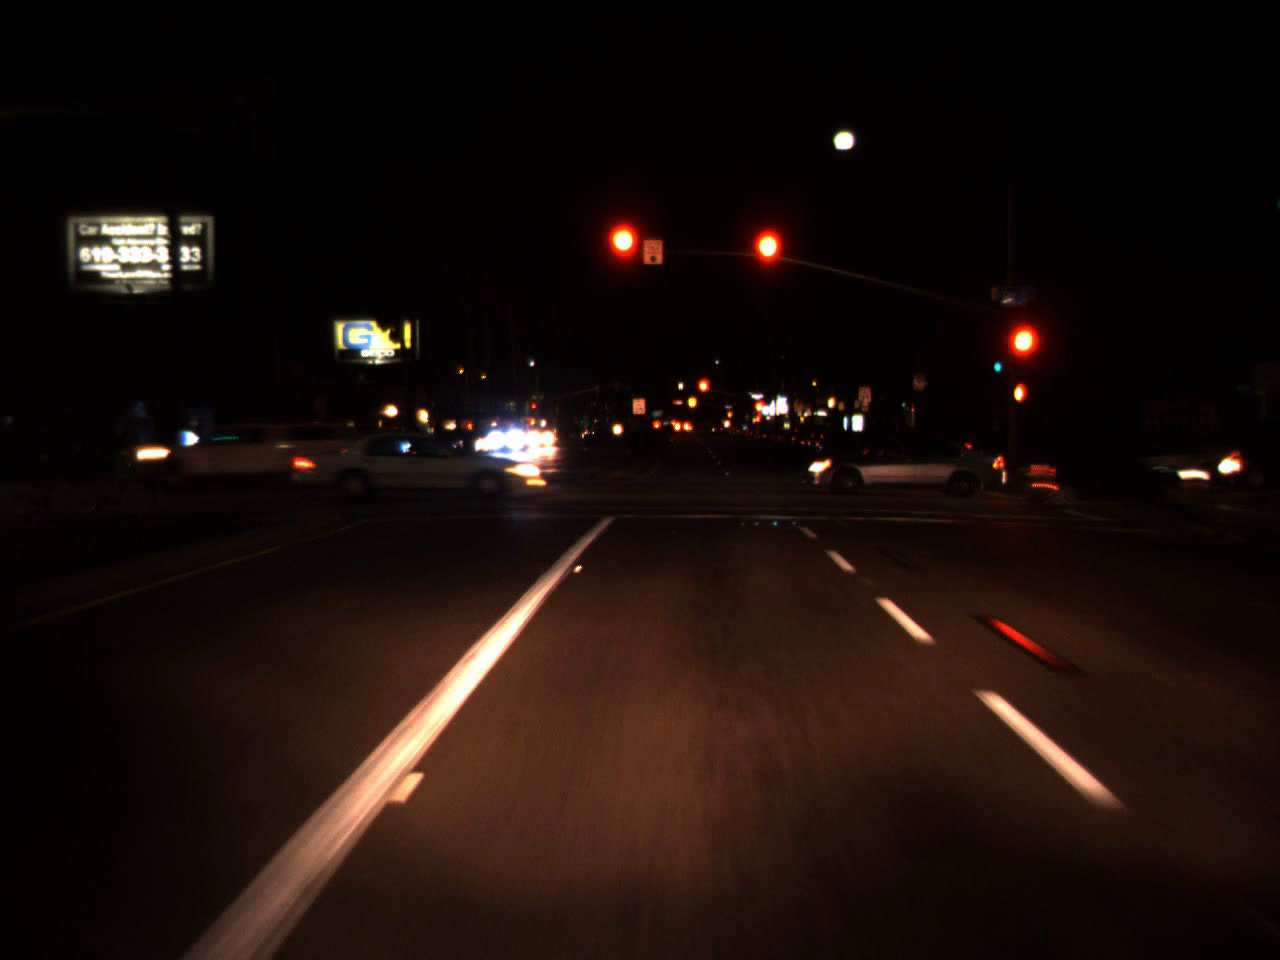stop: (998, 320, 1038, 398), (749, 225, 786, 303), (606, 222, 643, 297), (696, 377, 709, 406), (754, 399, 766, 426), (531, 403, 537, 413)
warning: (686, 388, 699, 415), (727, 408, 733, 419)
